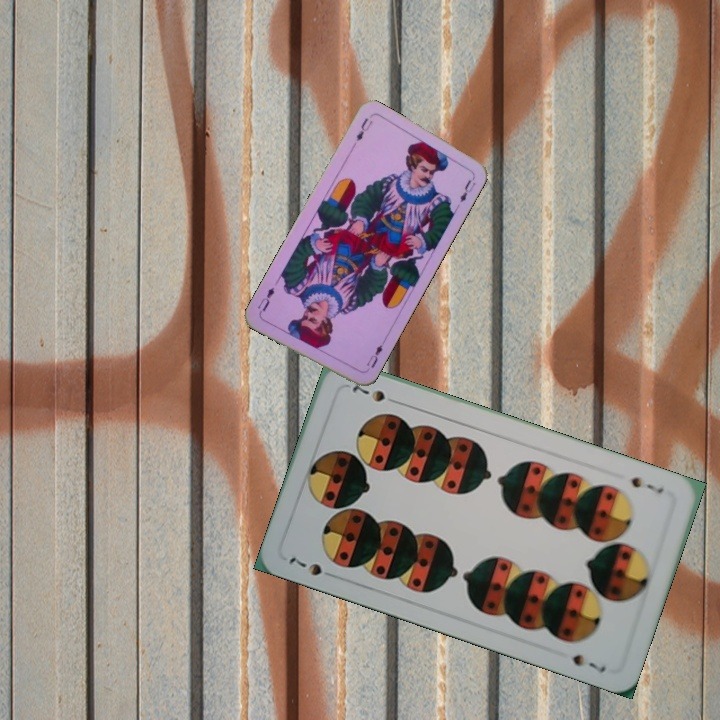EU: (362, 340, 385, 371), (352, 114, 375, 144)
S7: (285, 553, 340, 581), (627, 472, 667, 497)
